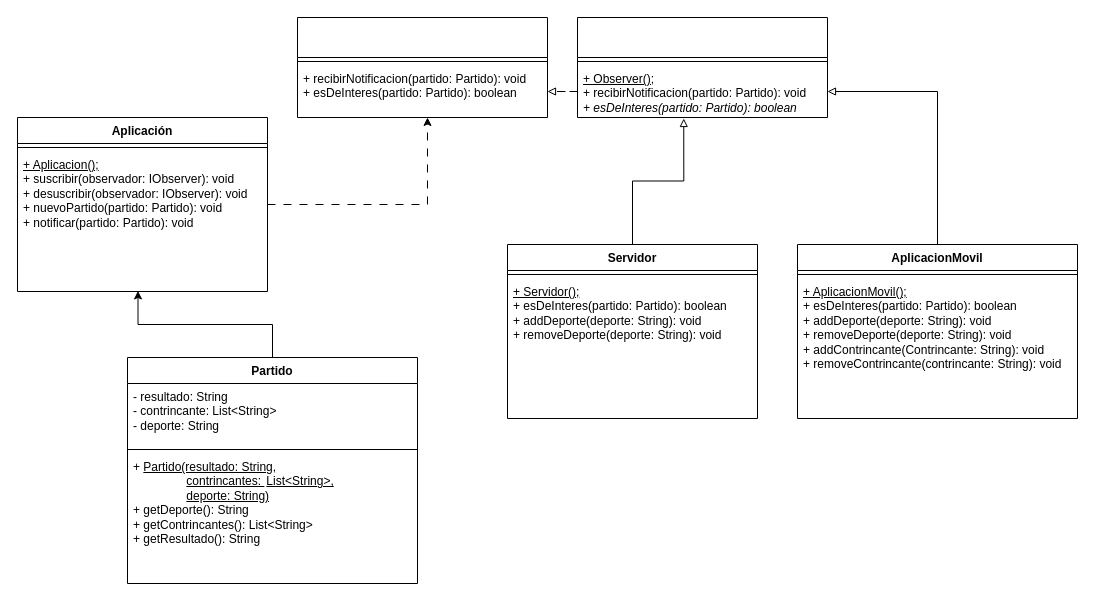
Some shapes in this 1095 by 604 pixel diagram are drawn without their labels. The shapes that lost their labels are listed below. From the top down, each one's box as (x1, y1, x2, y2) in pixels, then its label:
(296, 16, 548, 118): <<interface>> IObserver
(576, 16, 828, 118): <<abstract>> Observer
